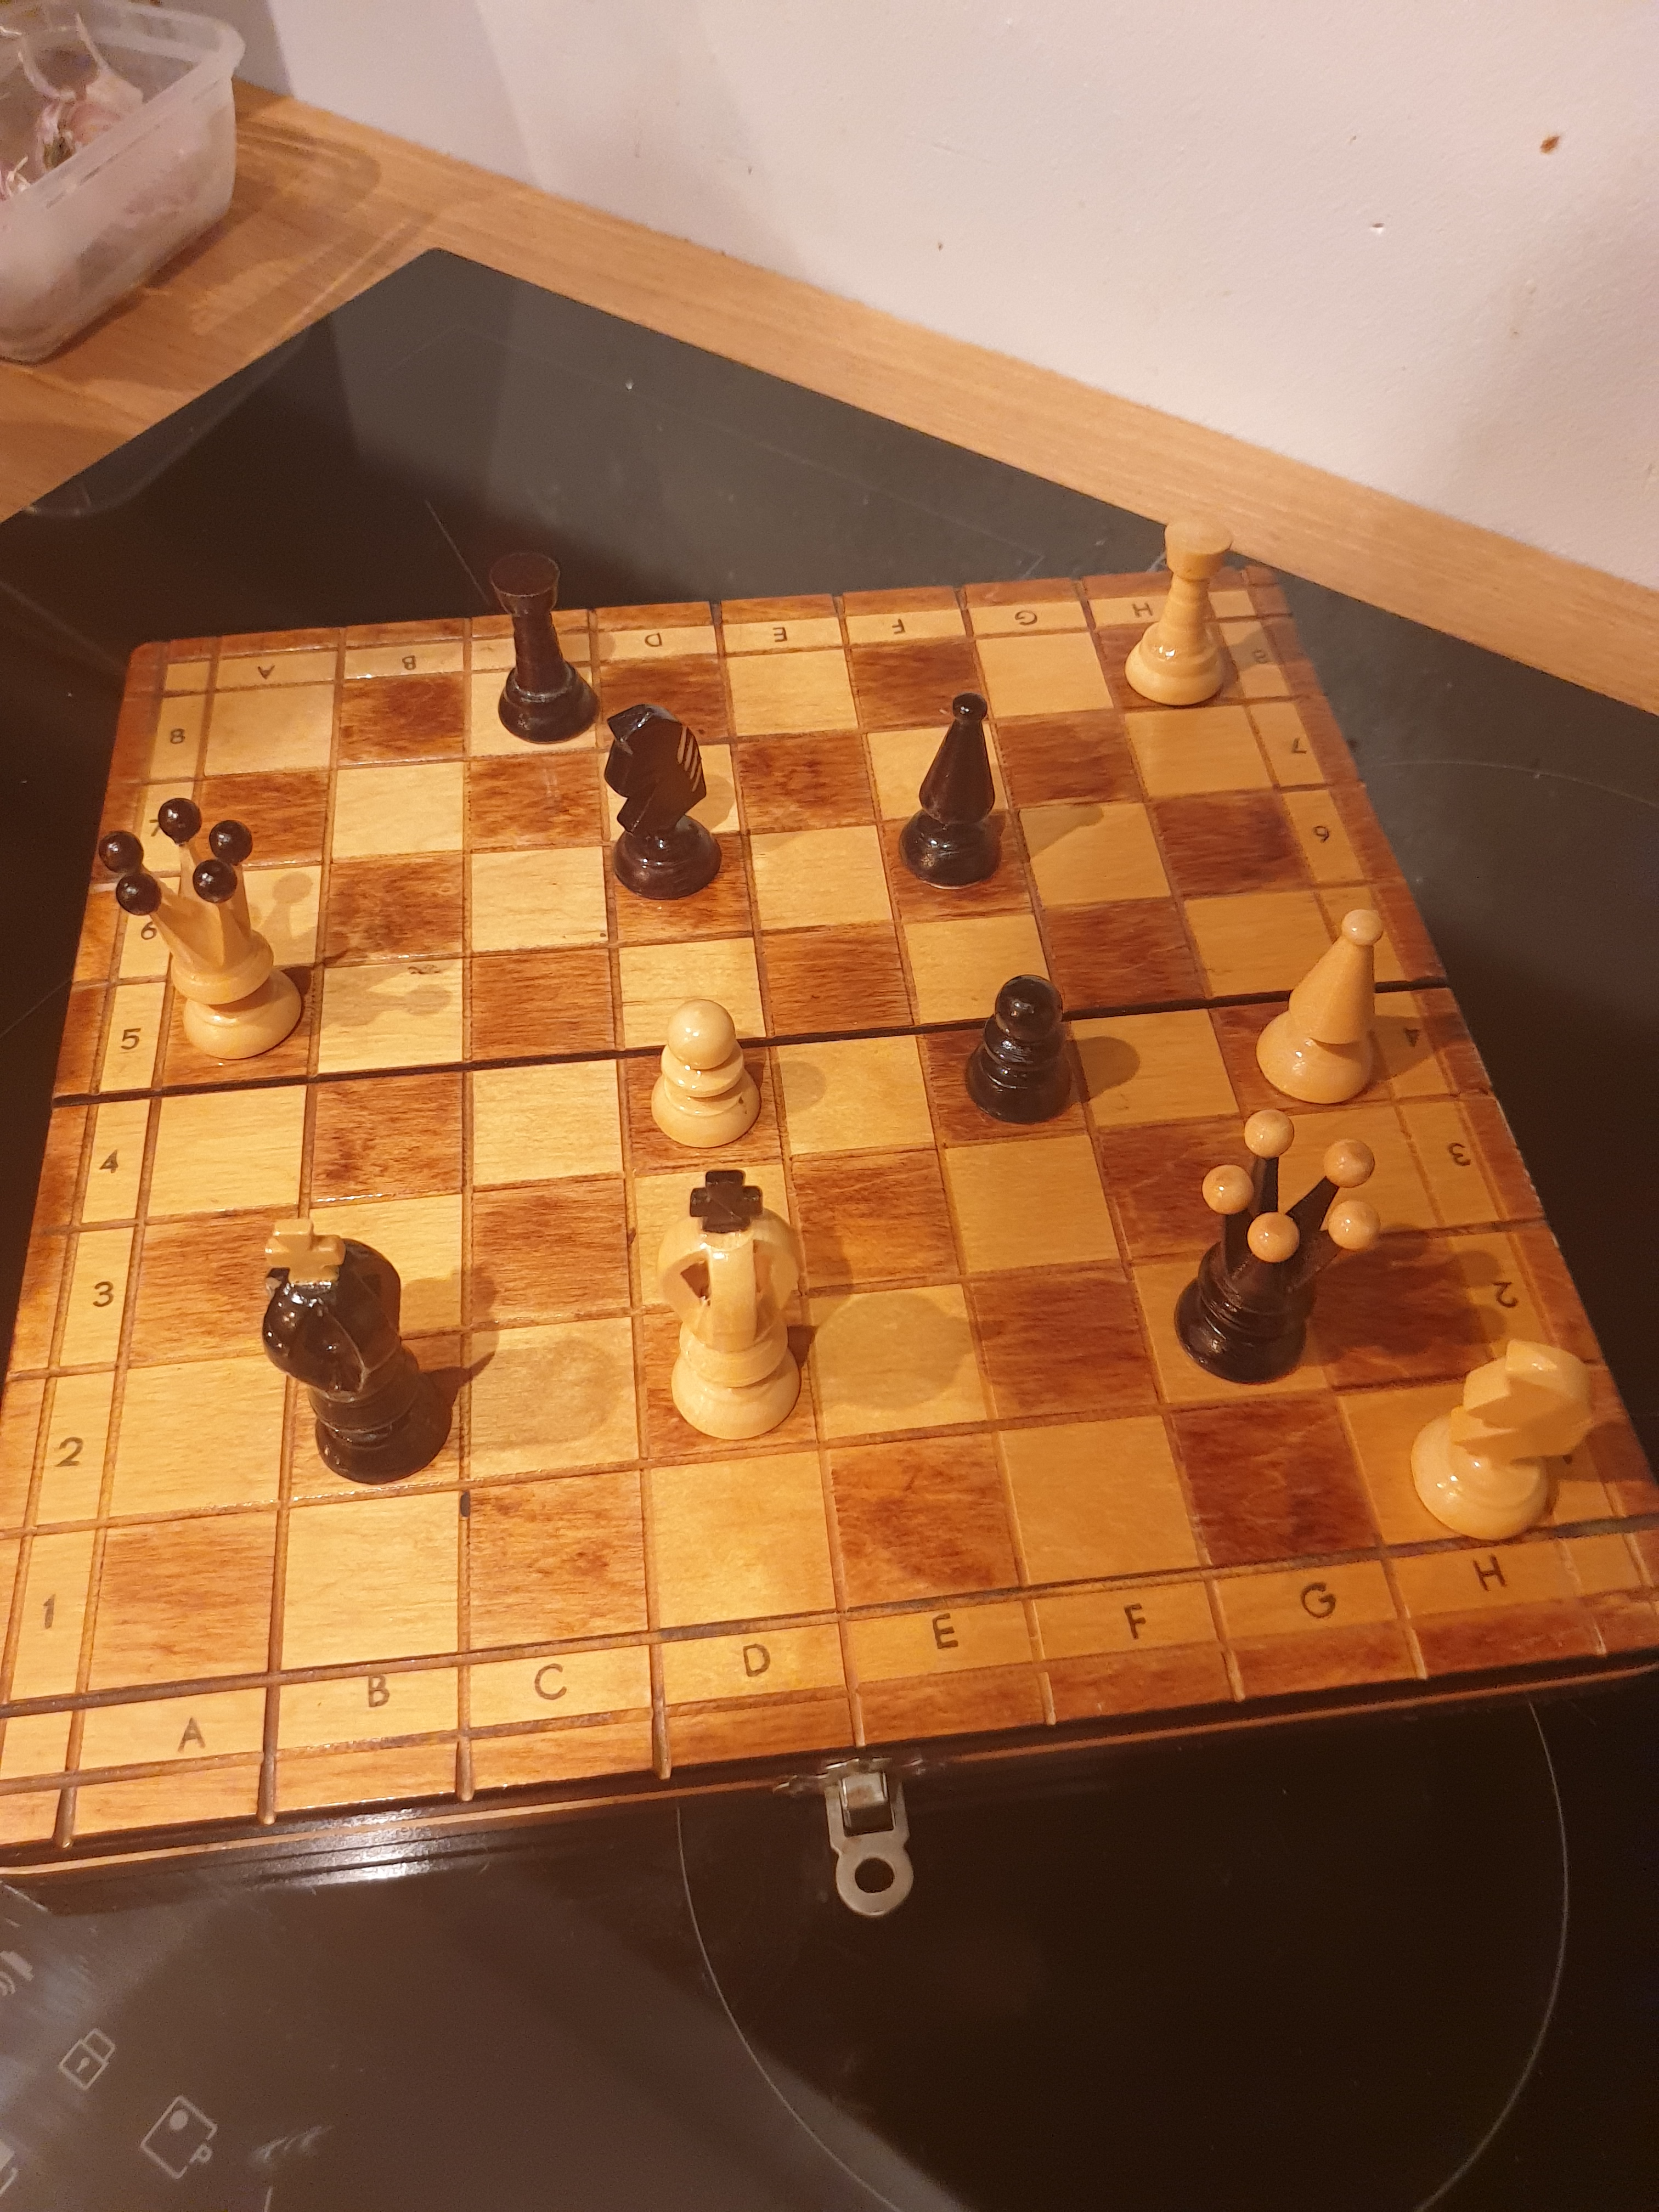bbishop: (878, 672, 1035, 907)
bking: (240, 1200, 484, 1517)
bknight: (592, 698, 739, 906)
bpawn: (953, 967, 1089, 1151)
bqueen: (1164, 1108, 1392, 1402)
brook: (474, 533, 606, 752)
wbishop: (1246, 892, 1399, 1116)
wking: (647, 1151, 833, 1470)
wknight: (1399, 1324, 1607, 1561)
wpawn: (640, 986, 775, 1167)
wqueen: (82, 775, 312, 1073)
wrook: (1114, 502, 1246, 719)
